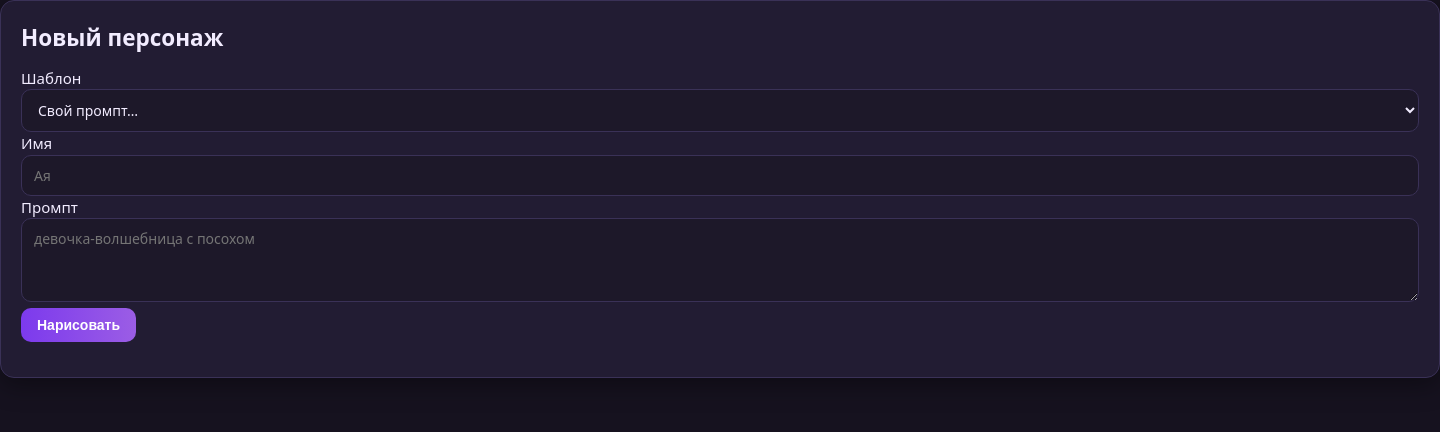
EntityGenerator (new character/item/location by prompt) › template picker fills prompt and suggests a name
Select "Сёдзё-героиня — напр. «Ая»" in the dropdown labelled "Шаблон": (720, 111) [21,89,1419,132]
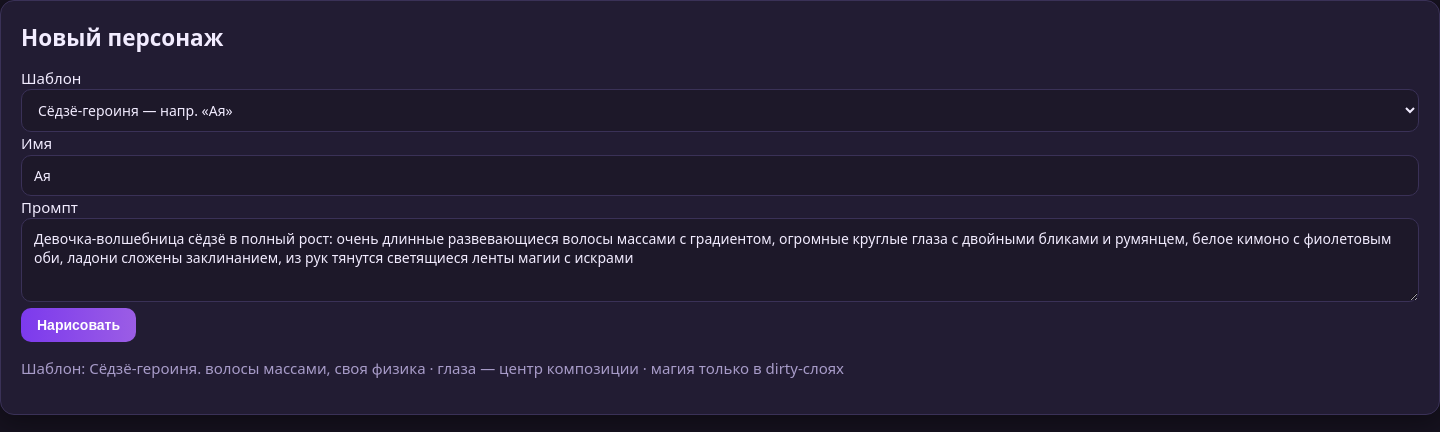
Now the field labelled "Имя" holds "Ая", box [21,155,1419,196]
